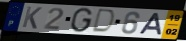2: (43, 7, 65, 31)
6: (121, 10, 141, 35)
A: (138, 12, 163, 36)
D: (90, 8, 117, 35)
G: (69, 7, 94, 34)
K: (20, 6, 44, 30)
